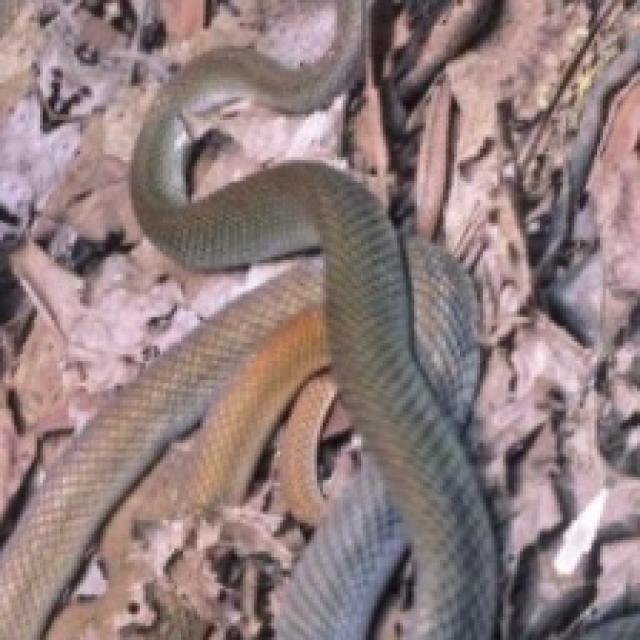reddish rat snake: (0, 0, 497, 637)
